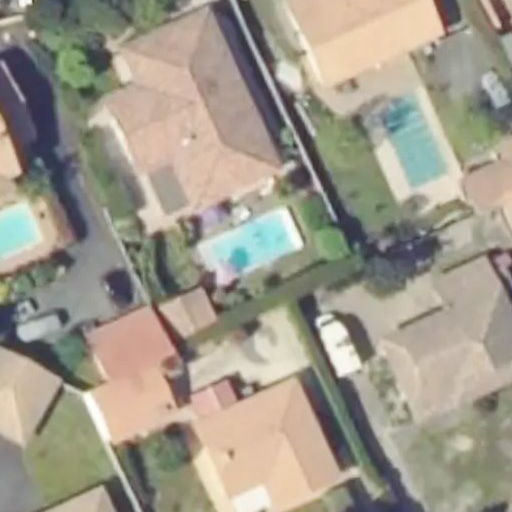pool: (212, 240, 299, 243)
